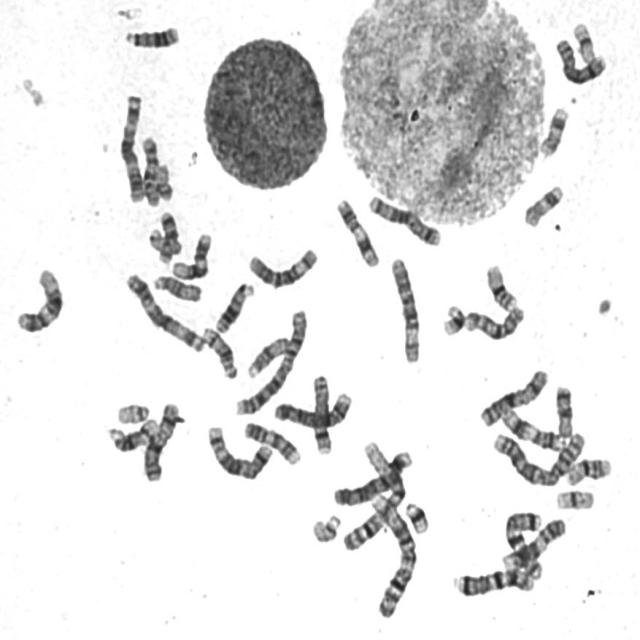A1: (338, 440, 412, 554), (366, 490, 419, 620)
A2: (232, 304, 310, 418), (488, 424, 588, 488)
A3: (121, 268, 207, 355), (115, 89, 146, 203)
B4: (330, 446, 414, 508), (270, 388, 354, 430)
B5: (364, 190, 443, 248), (204, 420, 274, 482)
C10: (461, 302, 526, 342), (138, 132, 160, 208)
C11: (333, 195, 381, 269), (498, 403, 566, 451)
C12: (12, 264, 65, 334), (169, 228, 213, 281)
C6: (386, 253, 423, 365), (244, 243, 320, 290)
C7: (500, 506, 544, 579), (450, 563, 538, 599)
C8: (551, 34, 609, 86), (308, 369, 334, 456)
C9: (499, 514, 568, 572), (240, 418, 301, 468)
D13: (212, 278, 256, 336), (120, 21, 181, 50)
D14: (198, 322, 238, 380), (104, 413, 160, 454)
D15: (244, 330, 292, 380), (150, 270, 203, 304)
E16: (482, 260, 520, 313), (562, 453, 613, 488)
E17: (520, 180, 564, 229), (536, 102, 570, 159)
E18: (154, 207, 180, 263), (552, 381, 575, 438)
F19: (569, 18, 598, 65), (552, 485, 596, 511)
F20: (145, 224, 184, 256), (152, 160, 174, 202)
G21: (402, 496, 431, 536), (439, 300, 466, 337)
G22: (308, 510, 342, 544), (113, 398, 151, 424)
X: (476, 364, 550, 429), (139, 398, 182, 483)
